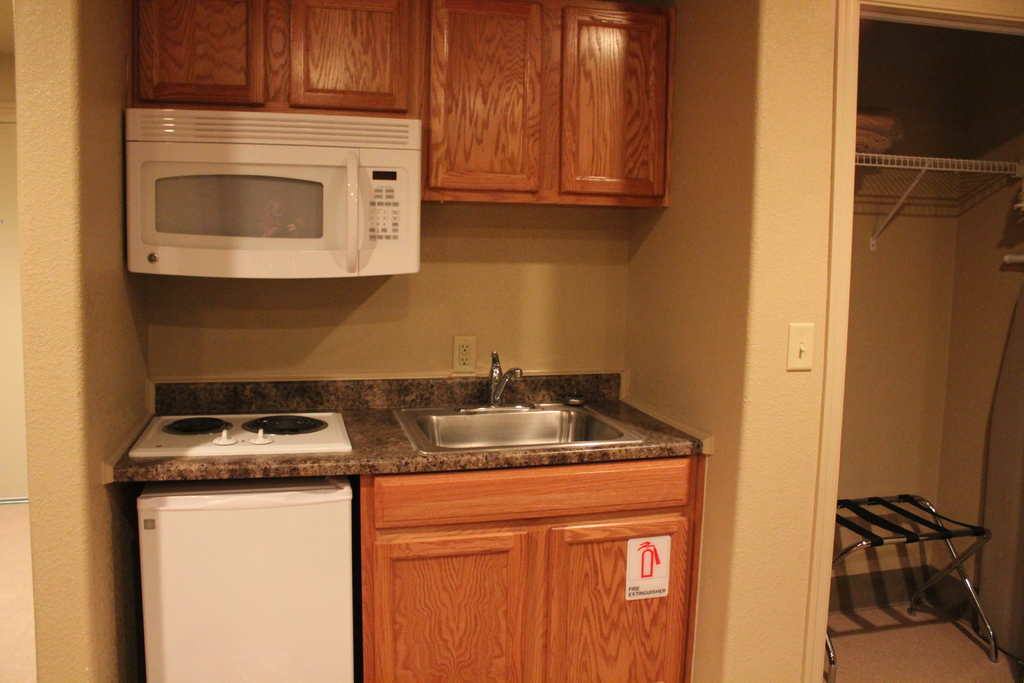Cabinetry: (132, 0, 676, 203), (368, 448, 701, 682)
